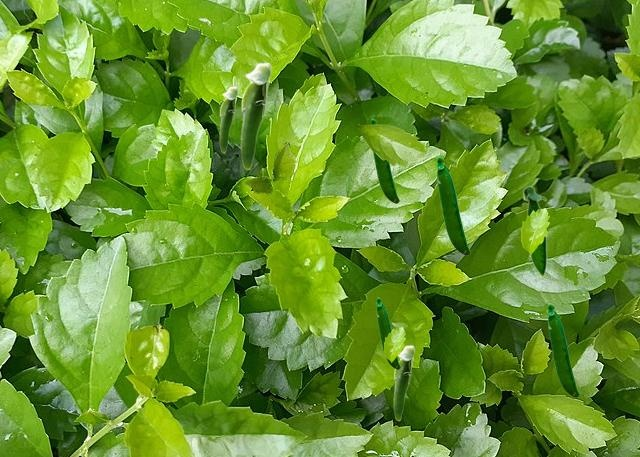pea: (240, 62, 271, 169), (436, 156, 469, 254), (547, 303, 578, 396), (370, 118, 398, 202), (522, 185, 546, 278), (376, 297, 399, 368), (393, 345, 414, 420), (219, 86, 237, 152)
